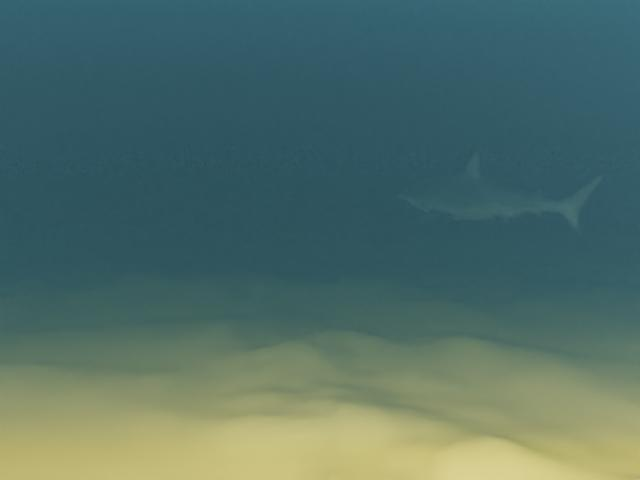Carribean Shark.001: (398, 148, 611, 238)
